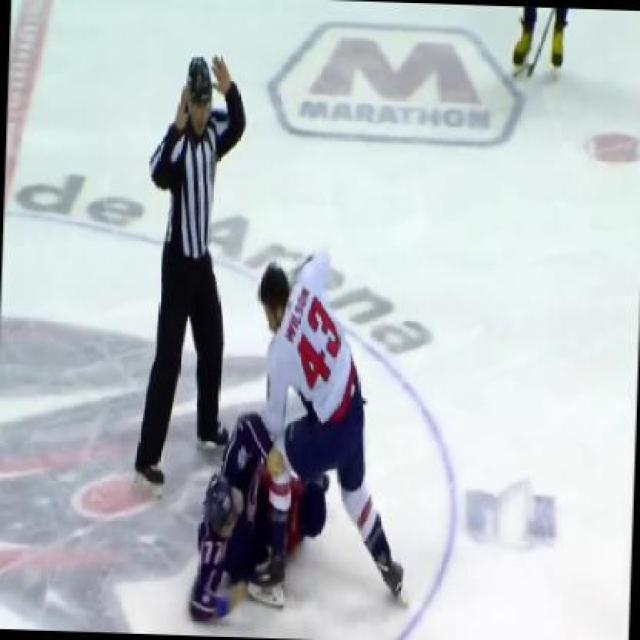fight: (192, 237, 418, 620)
non-fight: (140, 52, 242, 448)
